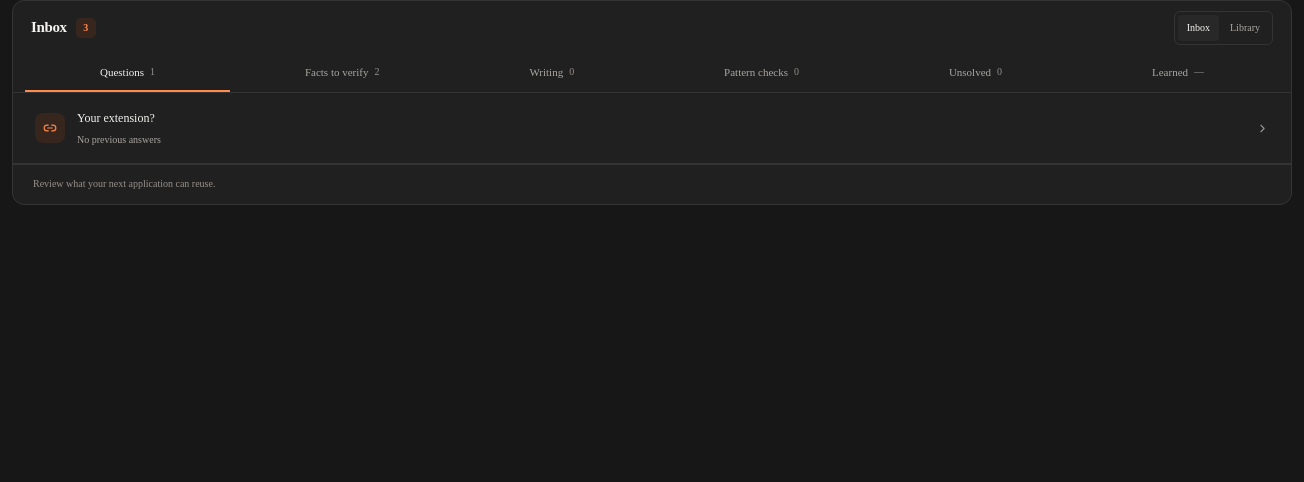
Test case: Inbox separates questions from server-selected facts and preserves None values
The image size is (1304, 482).
Later steps or results of the test are not shown.
Click the button "Facts to verify 2".
click(342, 74)  # box x1=230 y1=55 x2=454 y2=92
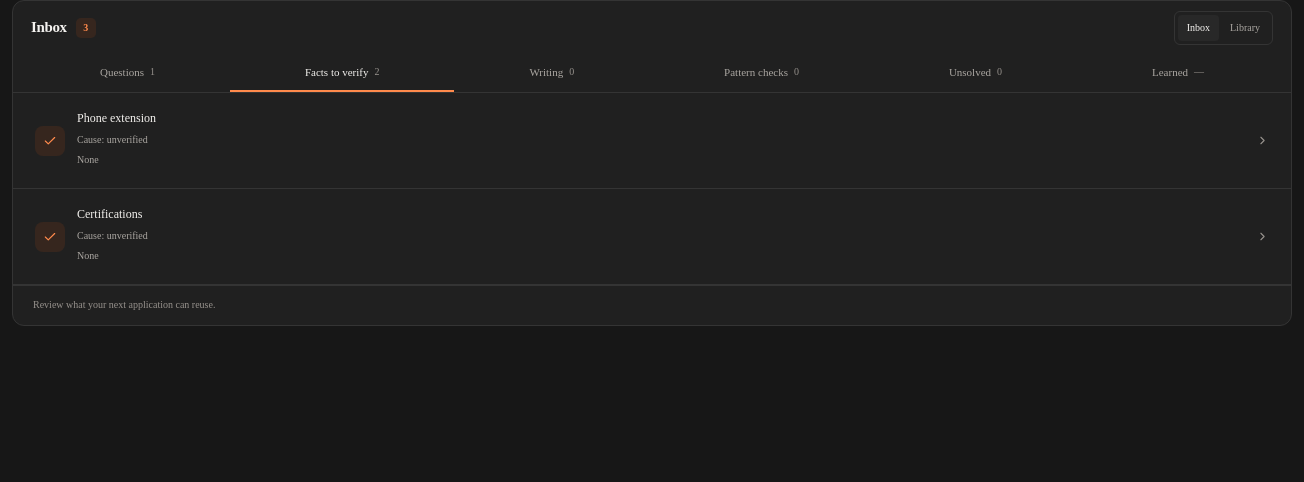
expect the text "None" is shown 2 times: met, box x1=77 y1=154 x2=99 y2=165; x1=77 y1=250 x2=99 y2=261
Click the button with aria-label "Review Phone extension".
click(116, 118)  # box x1=13 y1=93 x2=1291 y2=189
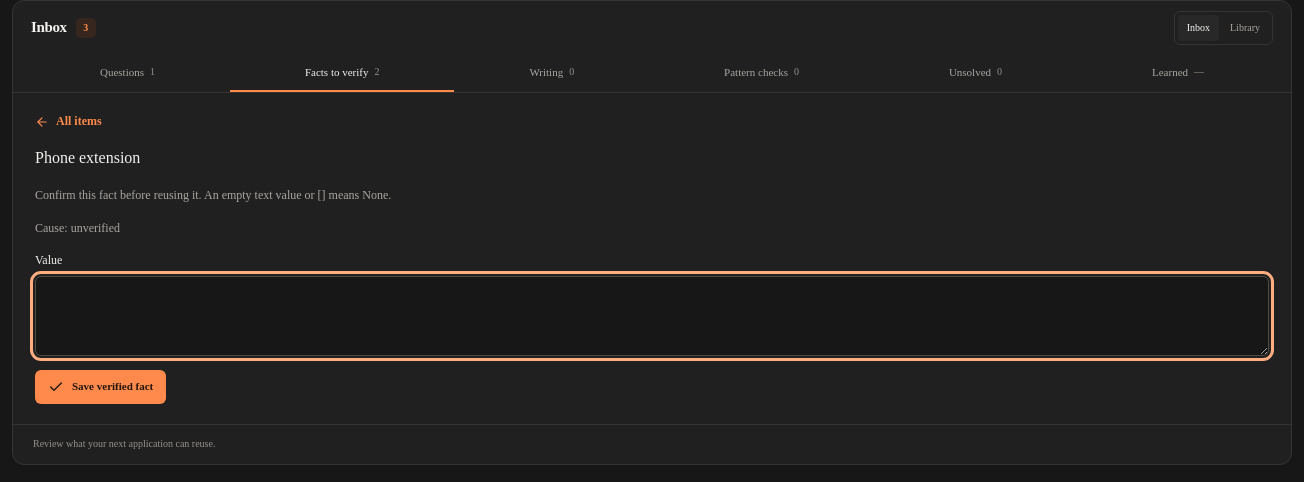
expect the text box labelled "Value" is empty: met, box x1=35 y1=276 x2=1269 y2=356
